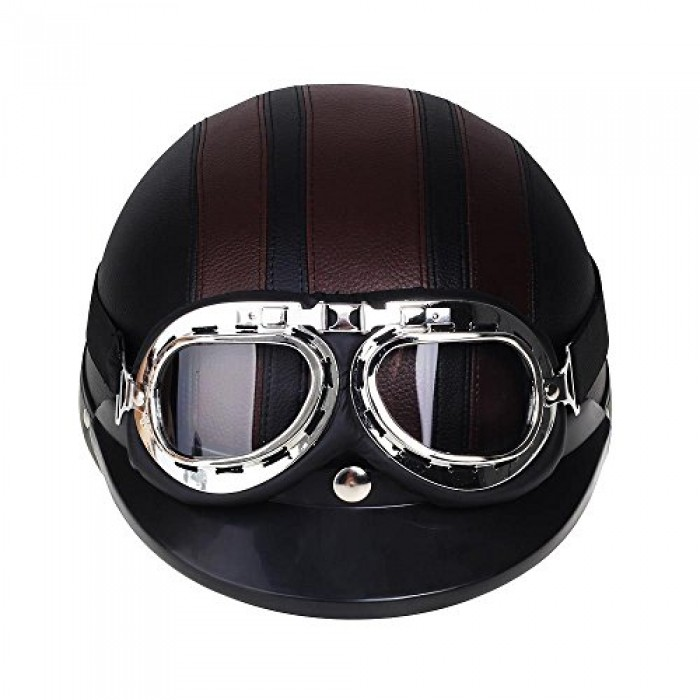with_helmet: (78, 82, 618, 622)
